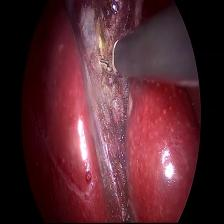Hook: (98, 37, 121, 88)
